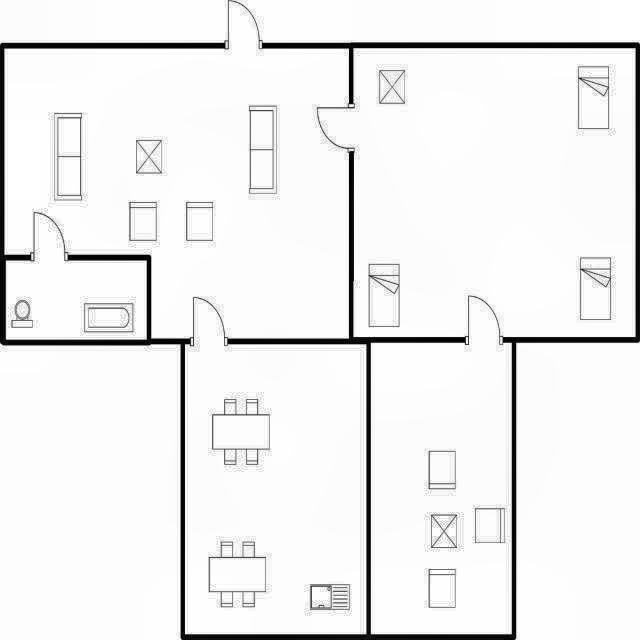room: (4, 49, 349, 338), (354, 49, 635, 337), (185, 345, 366, 635), (371, 343, 511, 634), (6, 262, 147, 338)
